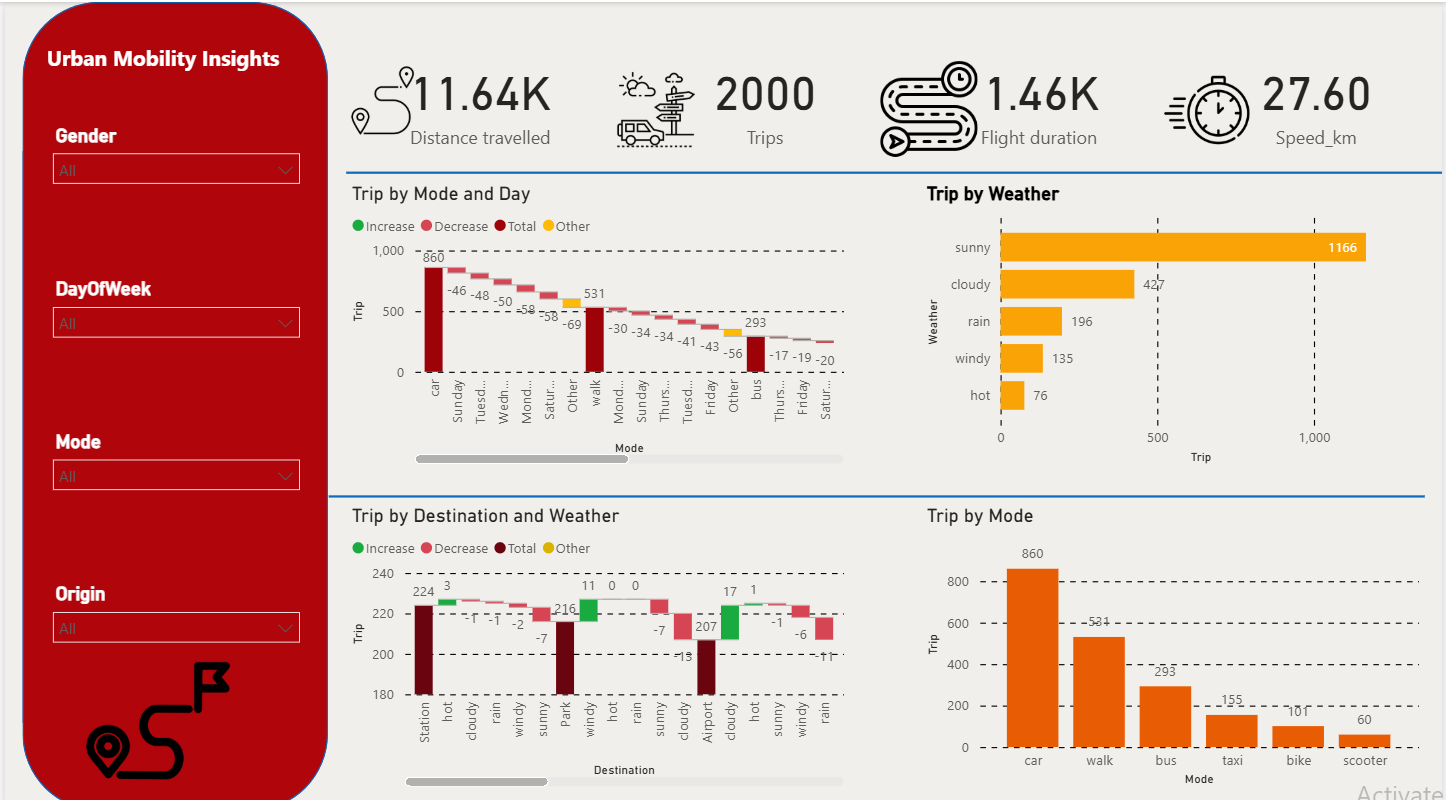

The dashboard page shown, as its layout file describes it:
{"tool":"powerbi","page":{"name":"Urban Mobility Insights","canvas":[1280,720],"ordinal":0},"visuals":[{"type":"shape","box":[16,0,272,720],"z":0},{"type":"shape","box":[304,128,976,48],"z":1000},{"type":"shape","box":[288,416,976,48],"z":2000},{"type":"waterfallChart","fields":{"Y":["CountNonNull(Urban Mobility Insights.TripID)"],"Category":["Urban Mobility Insights.Mode"],"Breakdown":["Urban Mobility Insights.DayOfWeek"]},"box":[304,160,448,256],"z":3000},{"type":"barChart","fields":{"Category":["Urban Mobility Insights.Weather"],"Y":["CountNonNull(Urban Mobility Insights.TripID)"]},"box":[816,160,448,256],"z":4000},{"type":"waterfallChart","fields":{"Y":["CountNonNull(Urban Mobility Insights.TripID)"],"Category":["Urban Mobility Insights.Destination"],"Breakdown":["Urban Mobility Insights.Weather"]},"box":[304,448,448,256],"z":5000},{"type":"columnChart","fields":{"Y":["CountNonNull(Urban Mobility Insights.TripID)"],"Category":["Urban Mobility Insights.Mode"]},"box":[816,448,448,256],"z":6000},{"type":"slicer","fields":{"Values":["Urban Mobility Insights.Gender"]},"box":[32,104,240,112],"z":7000},{"type":"slicer","fields":{"Values":["Urban Mobility Insights.DayOfWeek"]},"box":[32,240,240,112],"z":8000},{"type":"slicer","fields":{"Values":["Urban Mobility Insights.Mode"]},"box":[32,376,240,112],"z":9000},{"type":"slicer","fields":{"Values":["Urban Mobility Insights.Origin"]},"box":[32,512,240,112],"z":10000},{"type":"card","fields":{"Values":["Count(Urban Mobility Insights.TripID)"]},"box":[581.3,32,192,112],"z":11000},{"type":"card","fields":{"Values":["Avg(Urban Mobility Insights.Duration_s)"]},"box":[826.7,32,192,112],"z":12000},{"type":"card","fields":{"Values":["Avg(Urban Mobility Insights.Speed_kmh)"]},"box":[1072,32,192,112],"z":13000},{"type":"card","fields":{"Values":["Avg(Urban Mobility Insights.Distance_m)"]},"box":[320,32,208,112],"z":14000},{"type":"image","box":[32,560,208,160],"z":15000},{"type":"image","box":[775.3,48,96,96],"z":16000},{"type":"image","box":[1027,53.8,86,86],"z":17000},{"type":"image","box":[539.7,48,80,96],"z":18000},{"type":"image","box":[288,48,96,80],"z":19000},{"type":"textbox","box":[32,32,240,48],"z":20000}]}

Visuals, with their boxes in screenshot pixels (x1, y1, x2, y2):
shape: 4,0,323,799
shape: 342,113,1445,169
shape: 323,451,1445,508
waterfallChart - CountNonNull(Urban Mobility Insights.TripID) x Urban Mobility Insights.Mode: 342,150,869,451
barChart - Urban Mobility Insights.Weather x CountNonNull(Urban Mobility Insights.TripID): 944,150,1445,451
waterfallChart - CountNonNull(Urban Mobility Insights.TripID) x Urban Mobility Insights.Destination: 342,489,869,790
columnChart - CountNonNull(Urban Mobility Insights.TripID) x Urban Mobility Insights.Mode: 944,489,1445,790
slicer - Urban Mobility Insights.Gender: 23,85,305,216
slicer - Urban Mobility Insights.DayOfWeek: 23,244,305,376
slicer - Urban Mobility Insights.Mode: 23,404,305,536
slicer - Urban Mobility Insights.Origin: 23,564,305,696
card - Count(Urban Mobility Insights.TripID): 668,0,894,132
card - Avg(Urban Mobility Insights.Duration_s): 957,0,1182,132
card - Avg(Urban Mobility Insights.Speed_kmh): 1245,0,1445,132
card - Avg(Urban Mobility Insights.Distance_m): 361,0,605,132
image: 23,621,267,799
image: 896,19,1009,132
image: 1192,26,1293,127
image: 619,19,713,132
image: 323,19,436,113
textbox: 23,0,305,56
